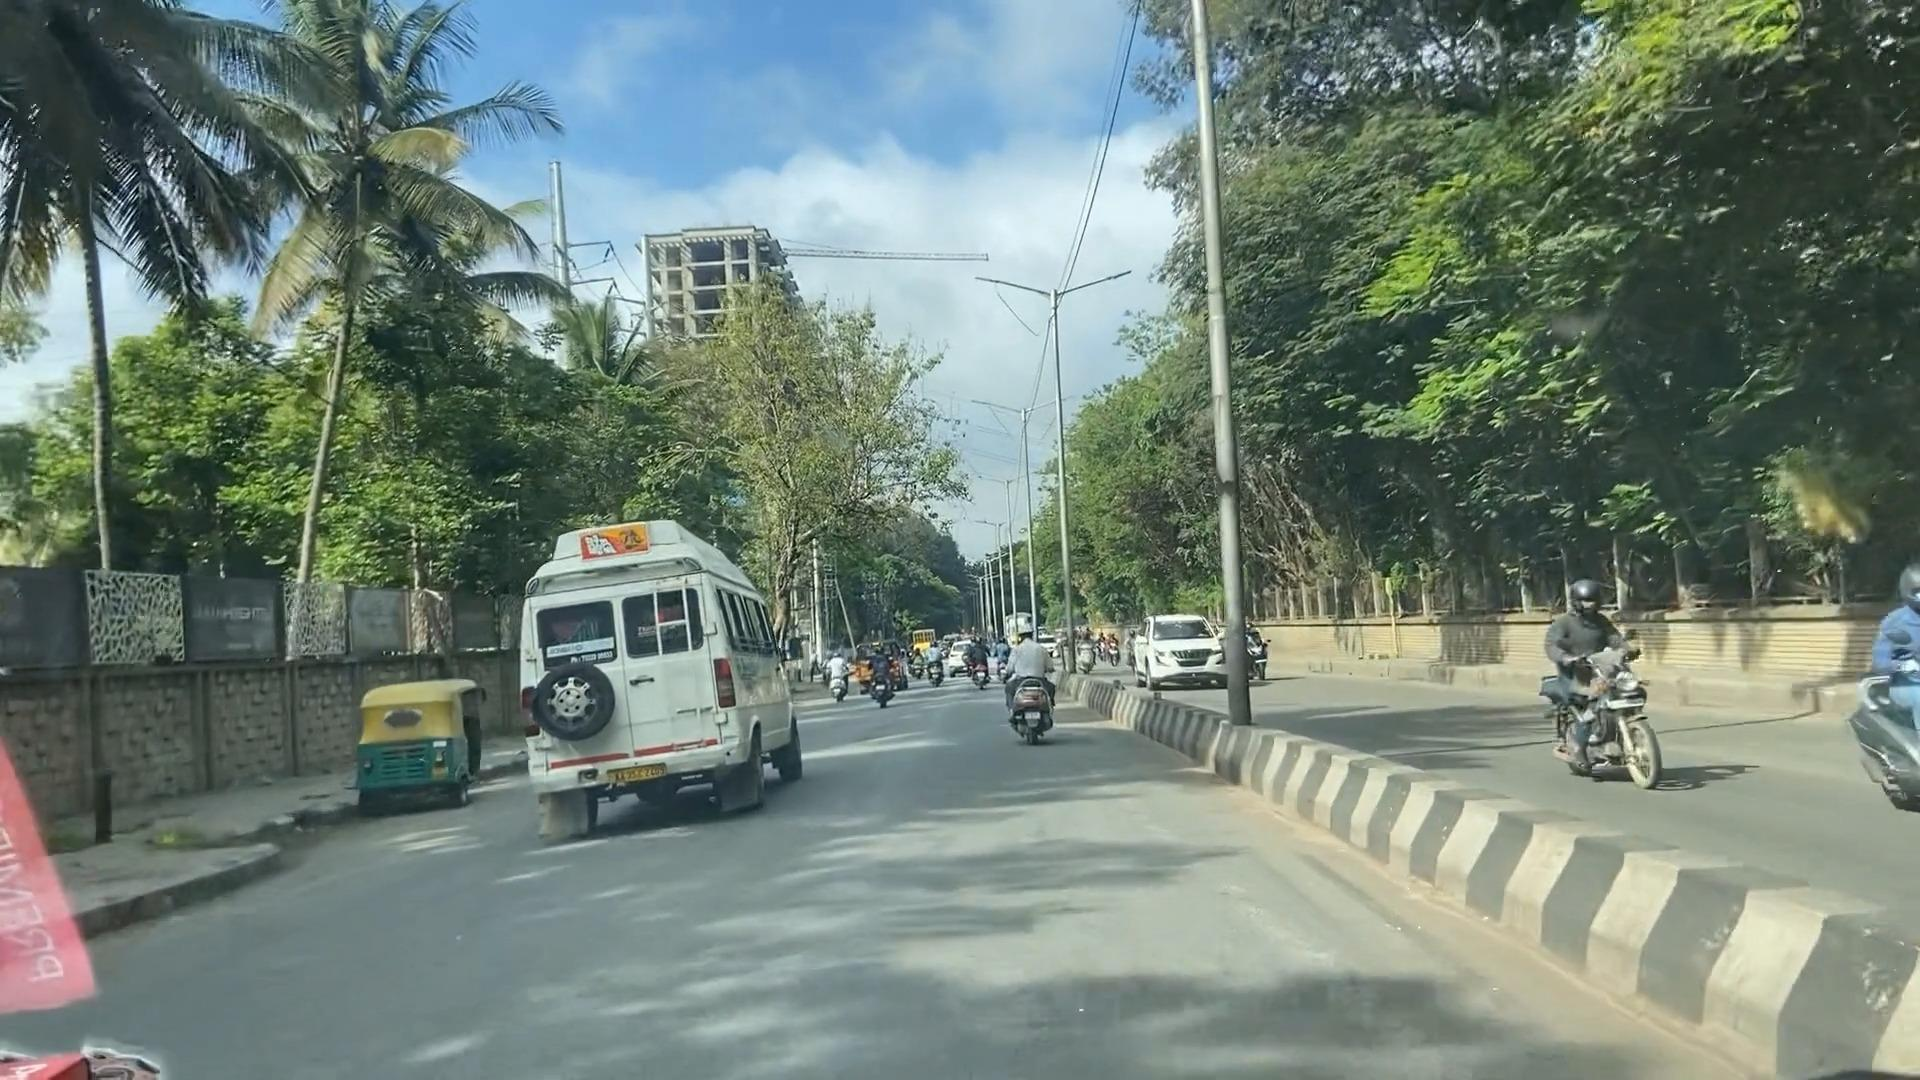HMV: (446, 527, 818, 815)
LMV: (365, 678, 492, 823)
